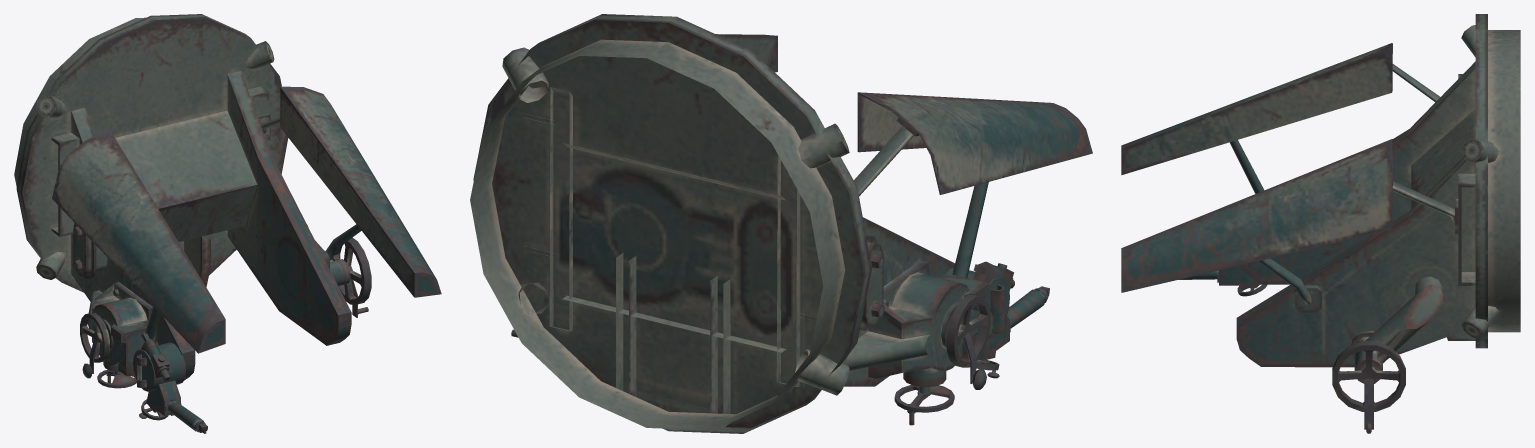
The model's file is Turret_02.glb.
The picture shows the model from 3 angles, left to right: view 1: azimuth 30°, elevation 25°; view 2: azimuth 150°, elevation 25°; view 3: azimuth 270°, elevation 25°; orthographic projection. The views are drawn at different scales.
Parts seen in each view (by area): view 1: set_0_group_0; view 2: set_0_group_0; view 3: set_0_group_0.
Part boxes in pixels (x1,y1,x2,y2): set_0_group_0: (14,14,441,433); set_0_group_0: (470,14,1092,433); set_0_group_0: (1121,14,1520,433).
Bounding box in the file's own units: 0.799 × 0.7434 × 0.8386.
1 material, 1 textured.
